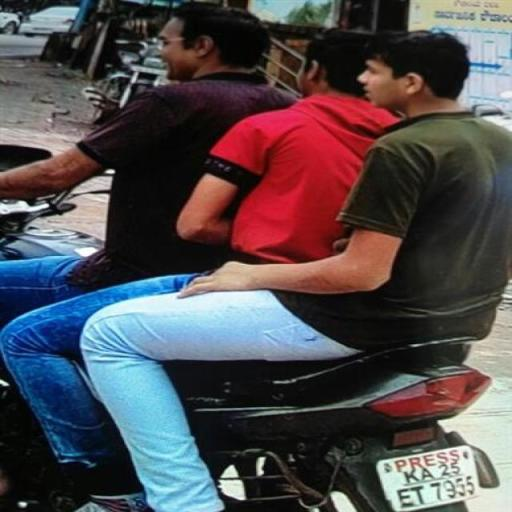tripple riding: (1, 1, 512, 332)
